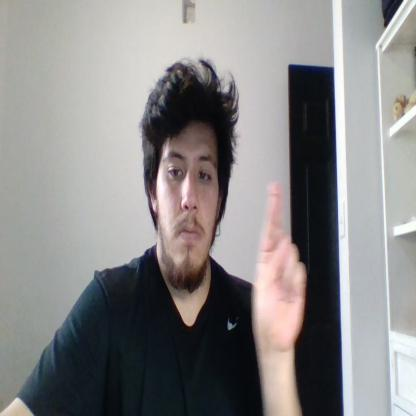R: (252, 178, 306, 352)
